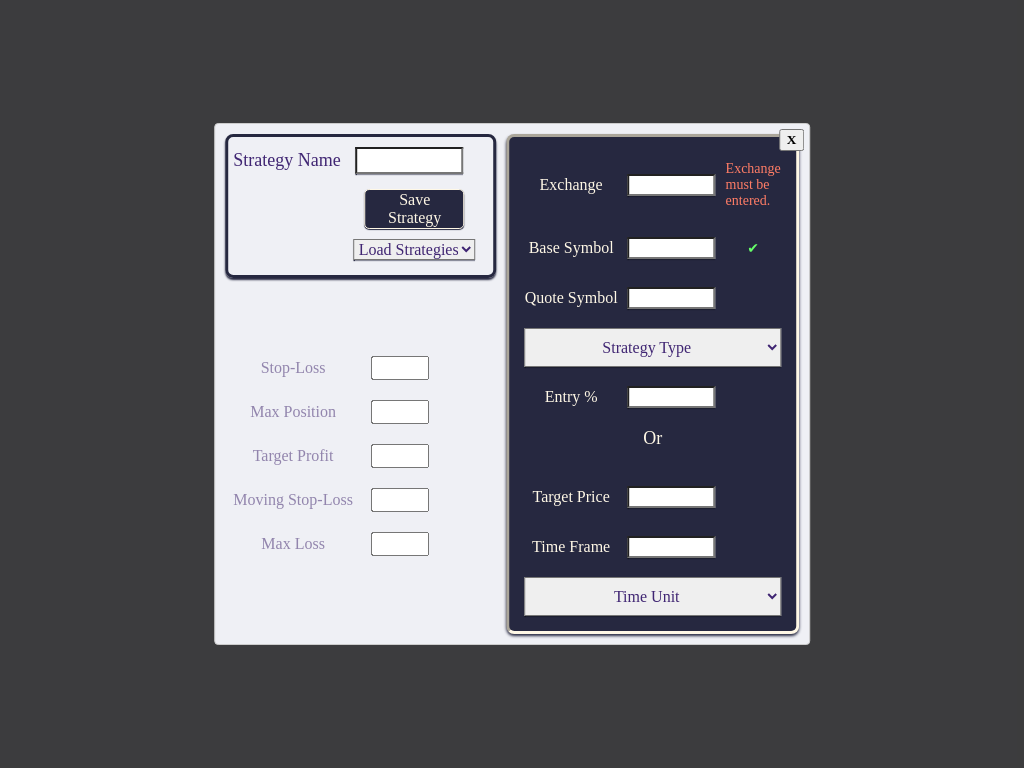
Test case: modal actions › should save strategy when save button is clicked
The image size is (1024, 768).
Click the button "Save Strategy" at [415, 209], box [365, 189, 465, 229]
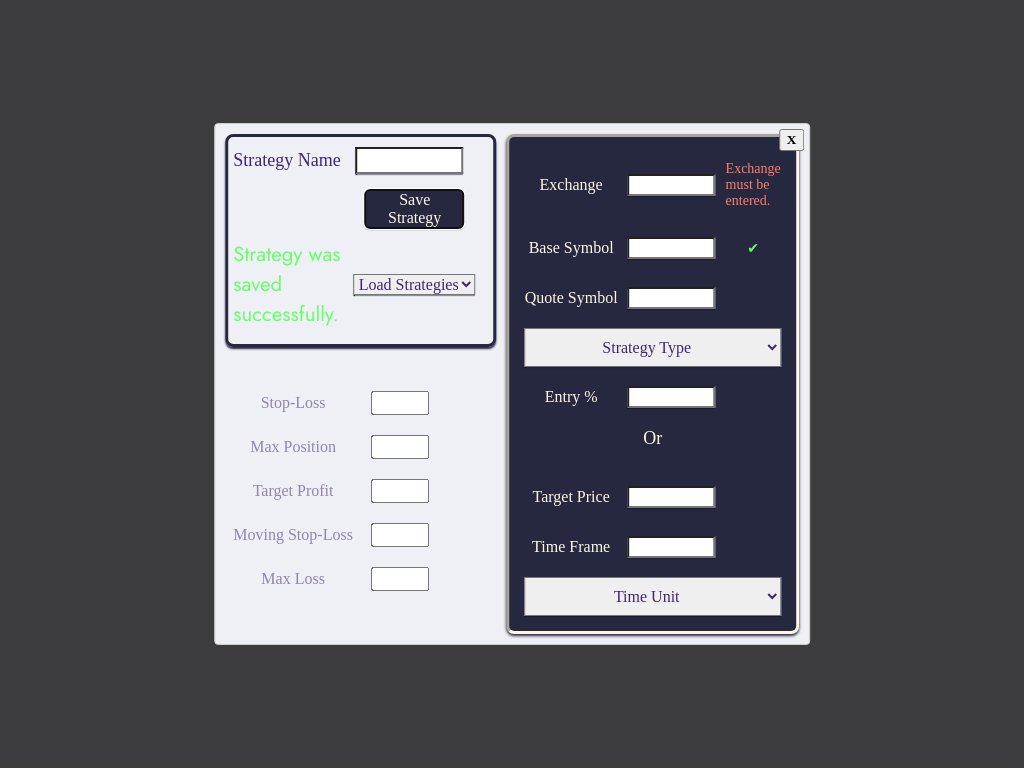
Now the text with test id "saveStrategyResponse" reads "Strategy was saved successfully.", box [233, 239, 340, 329]
